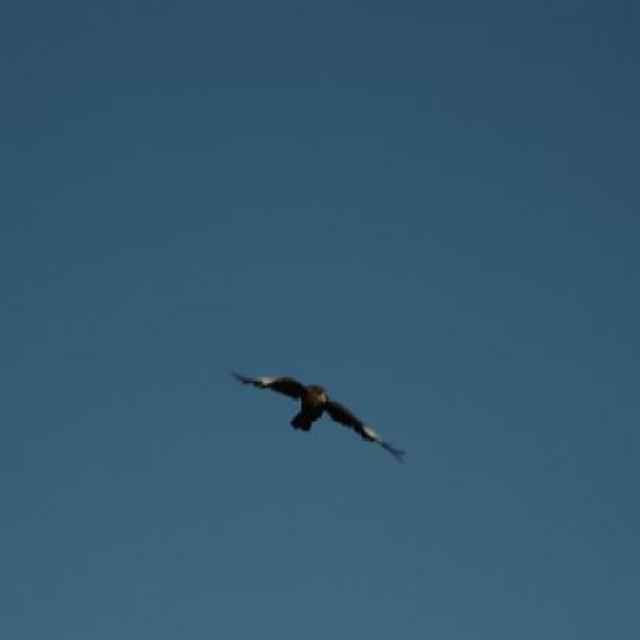bird: (223, 354, 411, 481)
